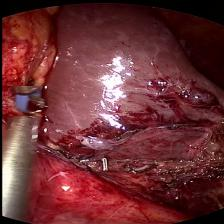Bipolar: (7, 86, 47, 116)
